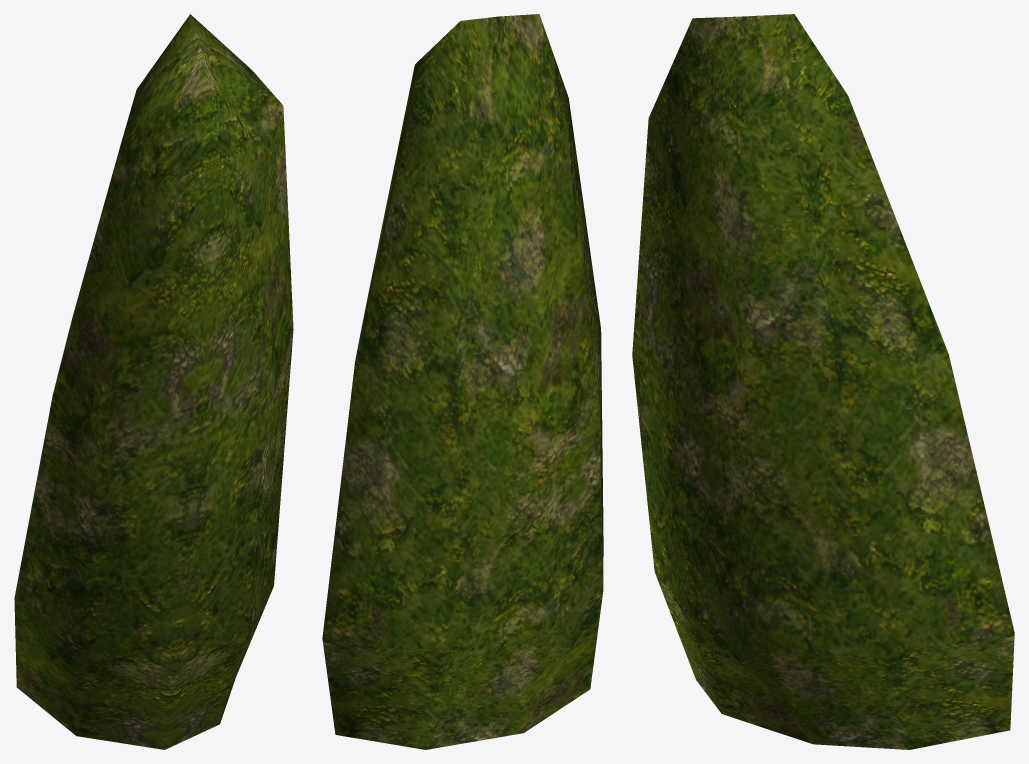
Rendered from OVERHILL_A_01_BR_ROCK199.fbx.
3 renders of one model, left to right at view 1: azimuth 30°, elevation 25°; view 2: azimuth 150°, elevation 25°; view 3: azimuth 270°, elevation 25°, orthographic. The views are drawn at different scales.
Parts seen in each view (by area): view 1: OVERHILL_A_01_BR_ROCK199; view 2: OVERHILL_A_01_BR_ROCK199; view 3: OVERHILL_A_01_BR_ROCK199.
Part boxes in pixels (x1=…): OVERHILL_A_01_BR_ROCK199: x1=14, y1=14, x2=293, y2=749; OVERHILL_A_01_BR_ROCK199: x1=322, y1=14, x2=603, y2=749; OVERHILL_A_01_BR_ROCK199: x1=632, y1=14, x2=1014, y2=749.
Bounding box in the file's own units: 11668 × 35696 × 17607.
1 material, 1 textured.
